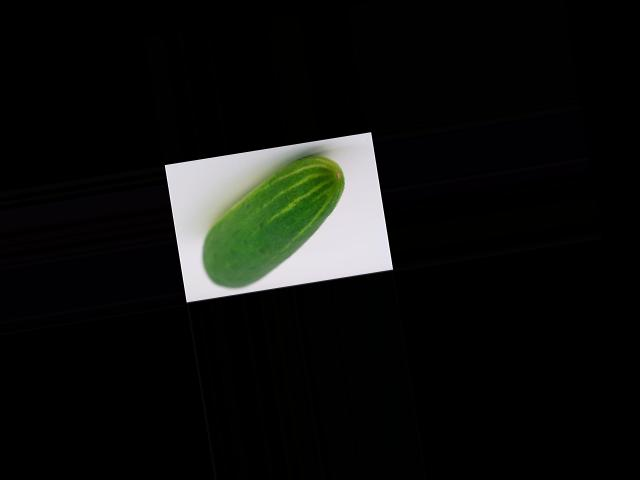cucumber: (188, 151, 358, 292)
